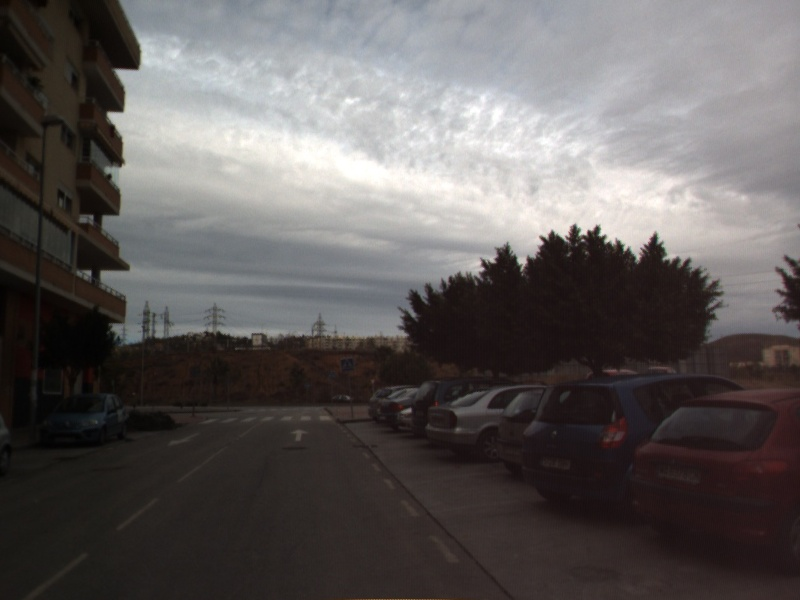STRAIGHT: (288, 427, 311, 443)
